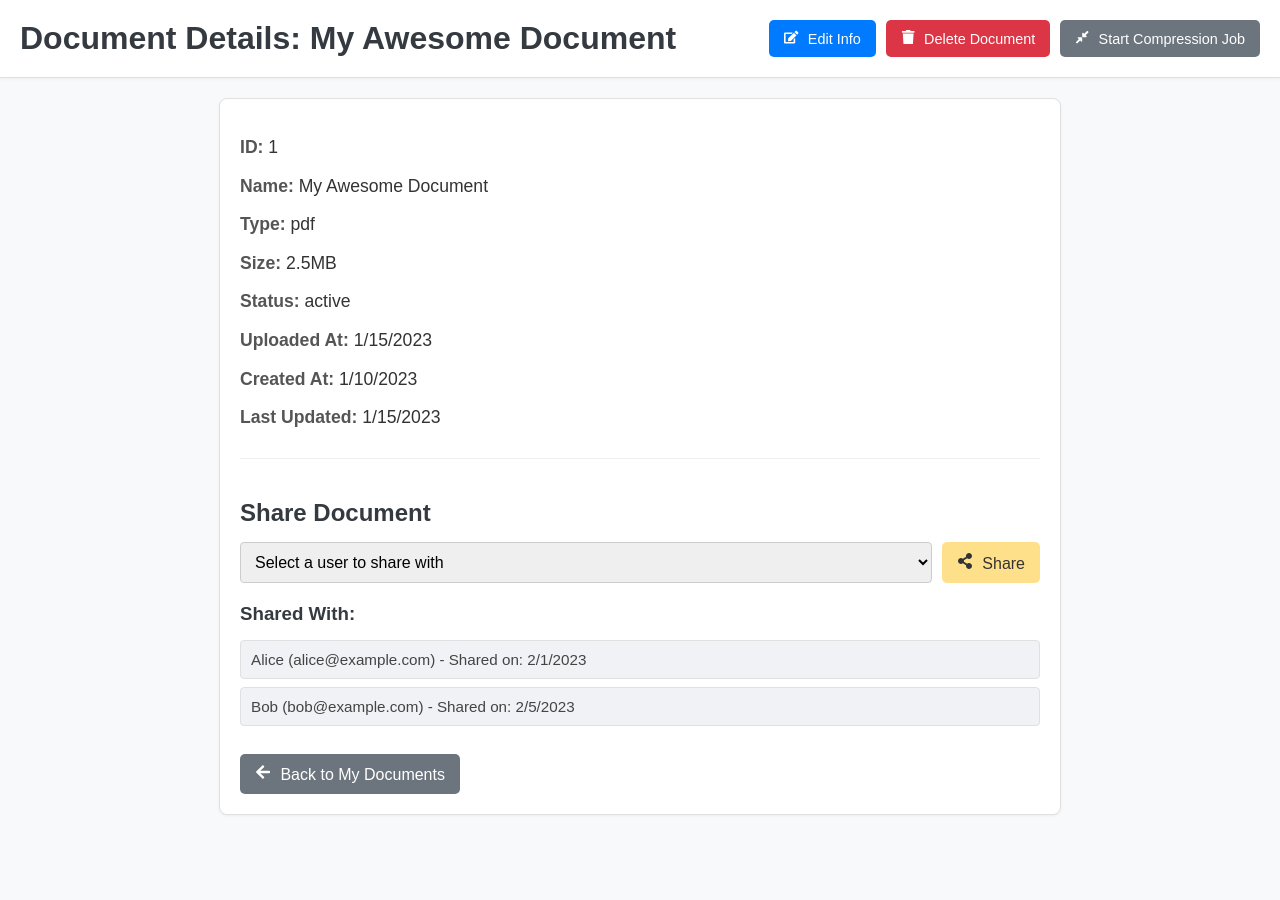
Test: DocumentDetailPage › handles document deletion
Click the button "Delete Document".
click(968, 39)  # box x1=886 y1=20 x2=1050 y2=57
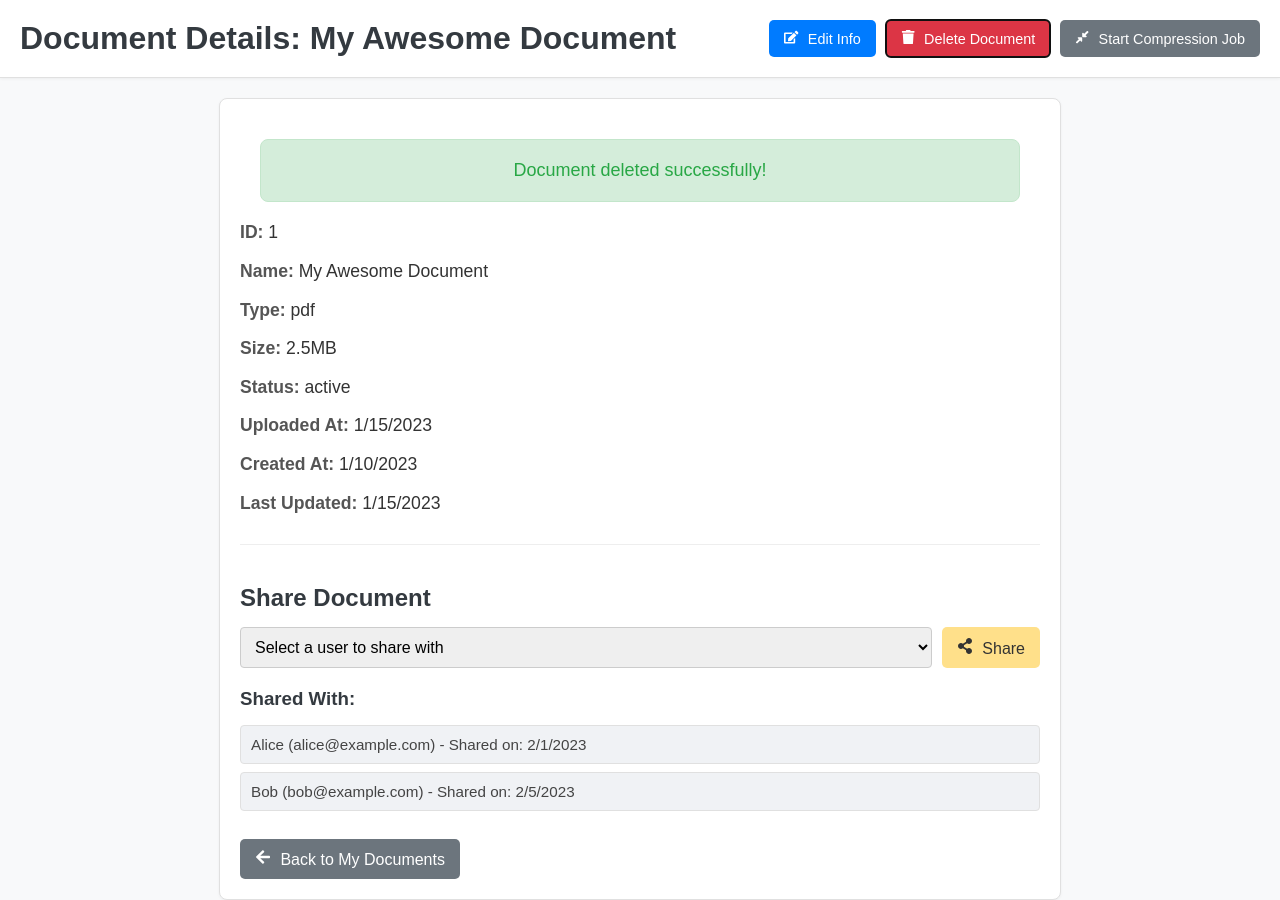
Expected: the text "Document deleted successfully!" is shown, x1=260 y1=139 x2=1020 y2=202
